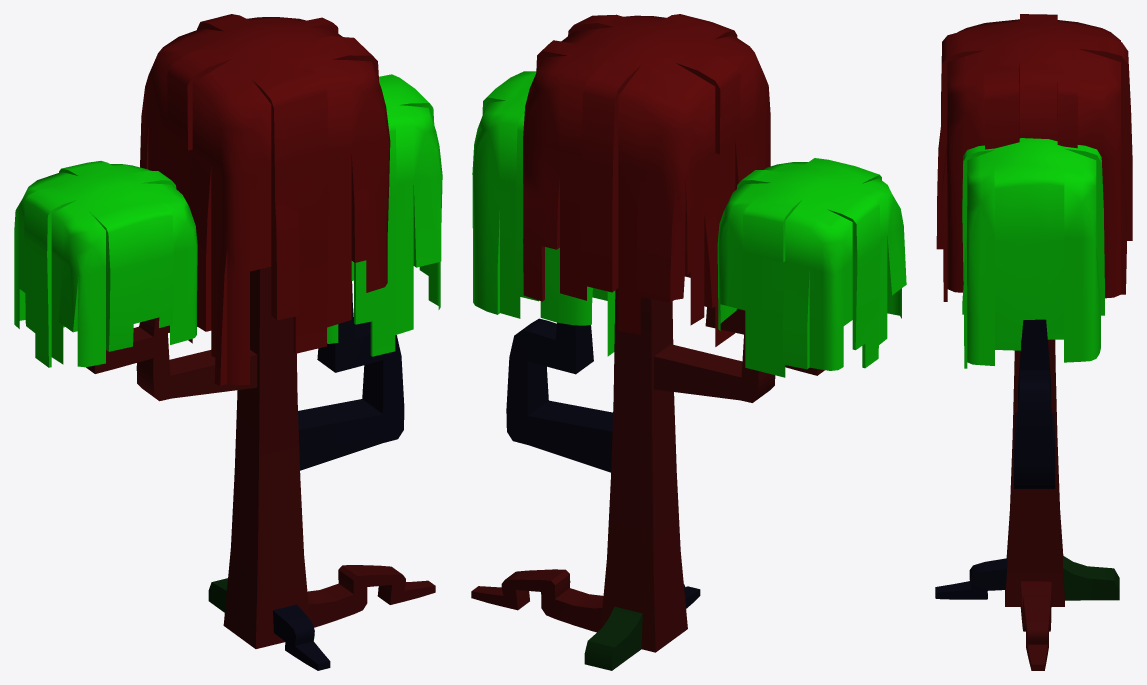
File: SM_Tree04.FBX
3 views of the same model, side by side, from view 1: azimuth 30°, elevation 25°; view 2: azimuth 150°, elevation 25°; view 3: azimuth 270°, elevation 25° (orthographic). The views are drawn at different scales.
Visible parts, largest first — view 1: Box234; view 2: Box234; view 3: Box234.
Part boxes in pixels (x1,y1,x2,y2): Box234: (14,14,442,670); Box234: (471,14,906,670); Box234: (935,14,1132,670).
Size of the model in its own units: 1474 by 683 by 2130.
